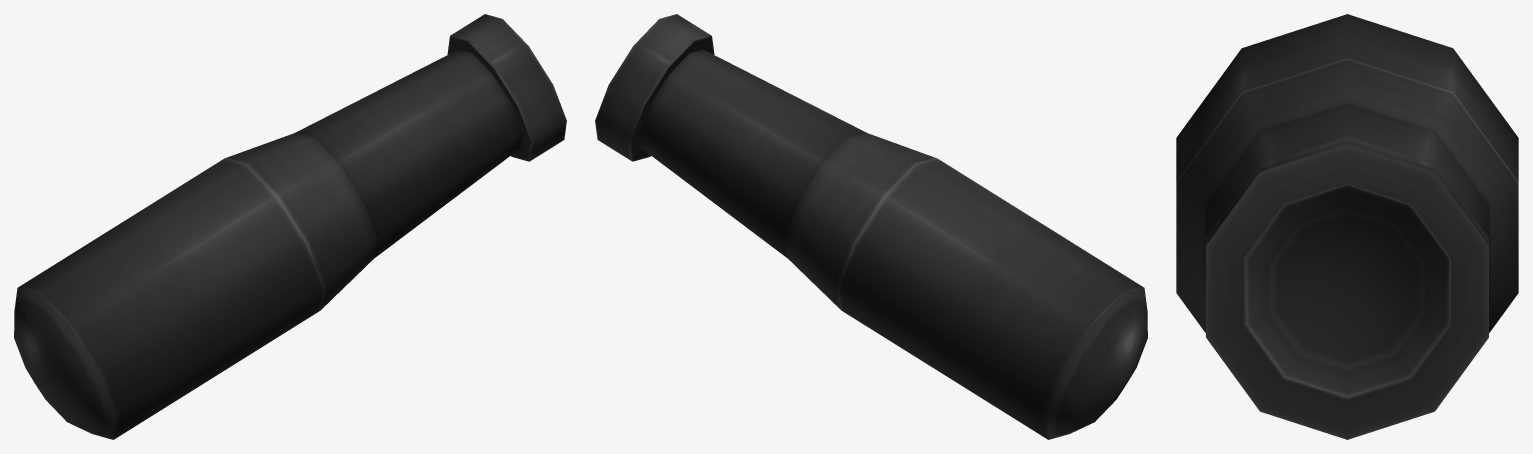
File: Cannon_lvl1.fbx
3 views of the same model, side by side, from view 1: azimuth 30°, elevation 25°; view 2: azimuth 150°, elevation 25°; view 3: azimuth 270°, elevation 25° (orthographic). The views are drawn at different scales.
Parts seen in each view (by area): view 1: pCylinder7; view 2: pCylinder7; view 3: pCylinder7.
Boxes of the visible parts, x1=… form: pCylinder7: x1=14, y1=14, x2=566, y2=439; pCylinder7: x1=595, y1=14, x2=1147, y2=439; pCylinder7: x1=1176, y1=14, x2=1518, y2=439.
Size of the model in its own units: 7.58 by 4.42 by 2.18.
